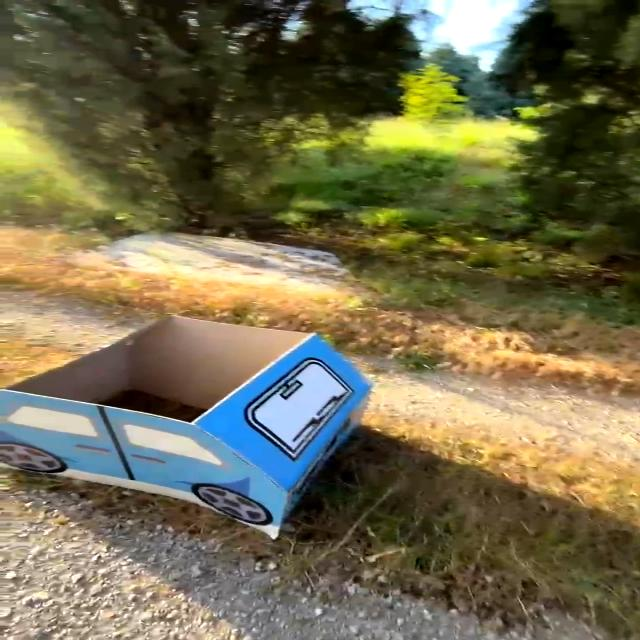blue_car: (0, 276, 412, 552)
